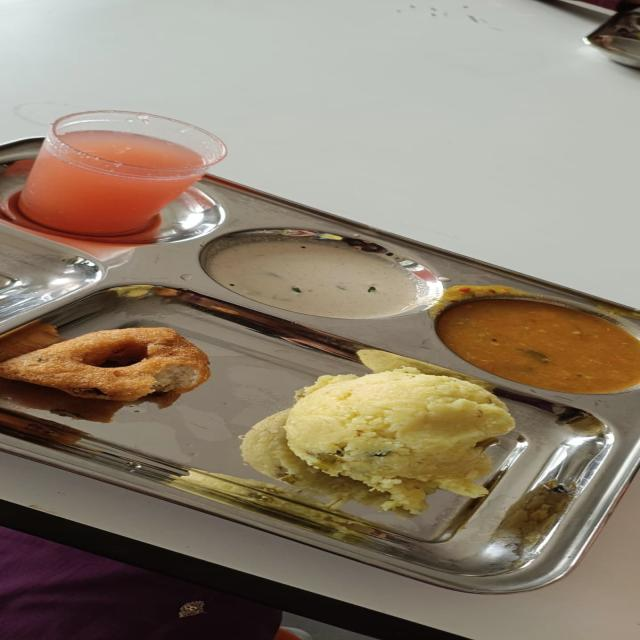Chutney: (255, 235, 420, 319)
Hot pongal: (274, 376, 481, 500)
Vada: (36, 307, 230, 419)
Watermelon juice: (5, 101, 226, 272)
sambar: (457, 287, 640, 401)
